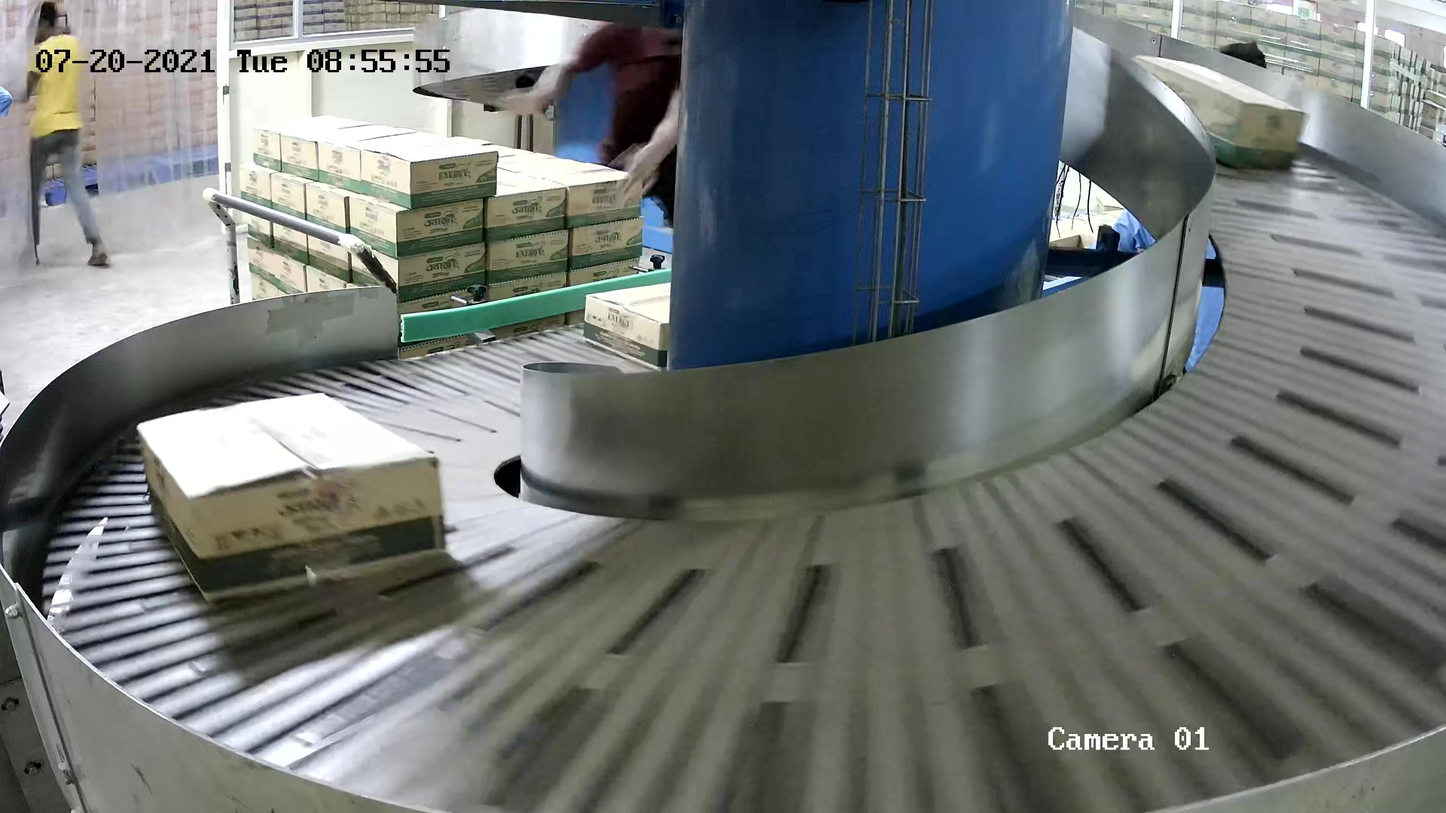Box: (134, 389, 451, 604), (1127, 53, 1311, 172), (580, 279, 672, 371)
